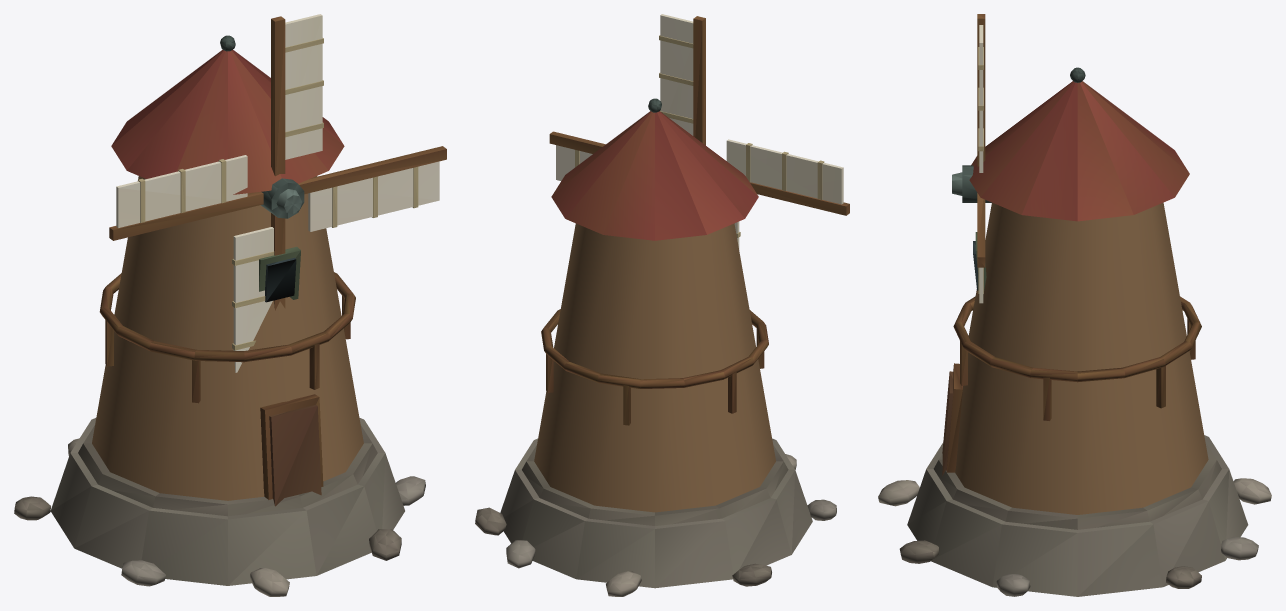
File: farm-windmill.glb
3 views of the same model, side by side, from view 1: azimuth 30°, elevation 25°; view 2: azimuth 150°, elevation 25°; view 3: azimuth 270°, elevation 25° (orthographic). The views are drawn at different scales.
Parts seen in each view (by area): view 1: windmillHardware, windmillTower, windmillBlades; view 2: windmillTower, windmillHardware, windmillBlades; view 3: windmillTower, windmillHardware, windmillBlades.
Boxes of the visible parts, x1=… form: windmillHardware: x1=14, y1=35, x2=425, y2=596; windmillTower: x1=92, y1=176, x2=363, y2=500; windmillBlades: x1=109, y1=14, x2=446, y2=372; windmillTower: x1=534, y1=223, x2=775, y2=512; windmillHardware: x1=475, y1=98, x2=836, y2=596; windmillBlades: x1=549, y1=14, x2=849, y2=249; windmillTower: x1=955, y1=202, x2=1208, y2=514; windmillHardware: x1=878, y1=67, x2=1271, y2=596; windmillBlades: x1=952, y1=14, x2=992, y2=303.
Bounding box in the file's own units: 3.35 × 5.02 × 3.51.
